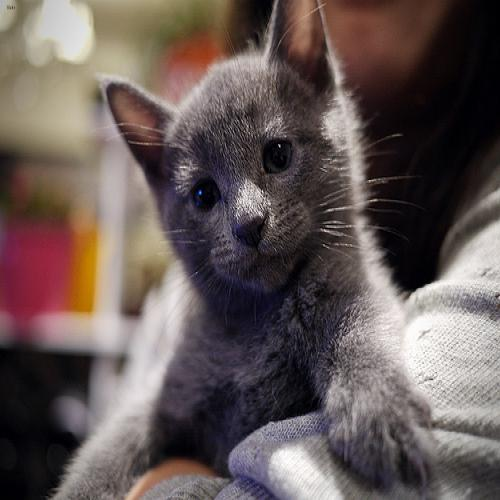rblue: (98, 1, 352, 323)
